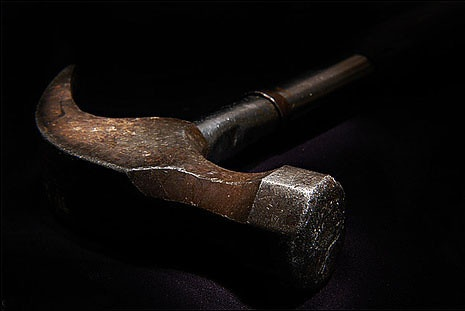hammer: (35, 26, 381, 283)
